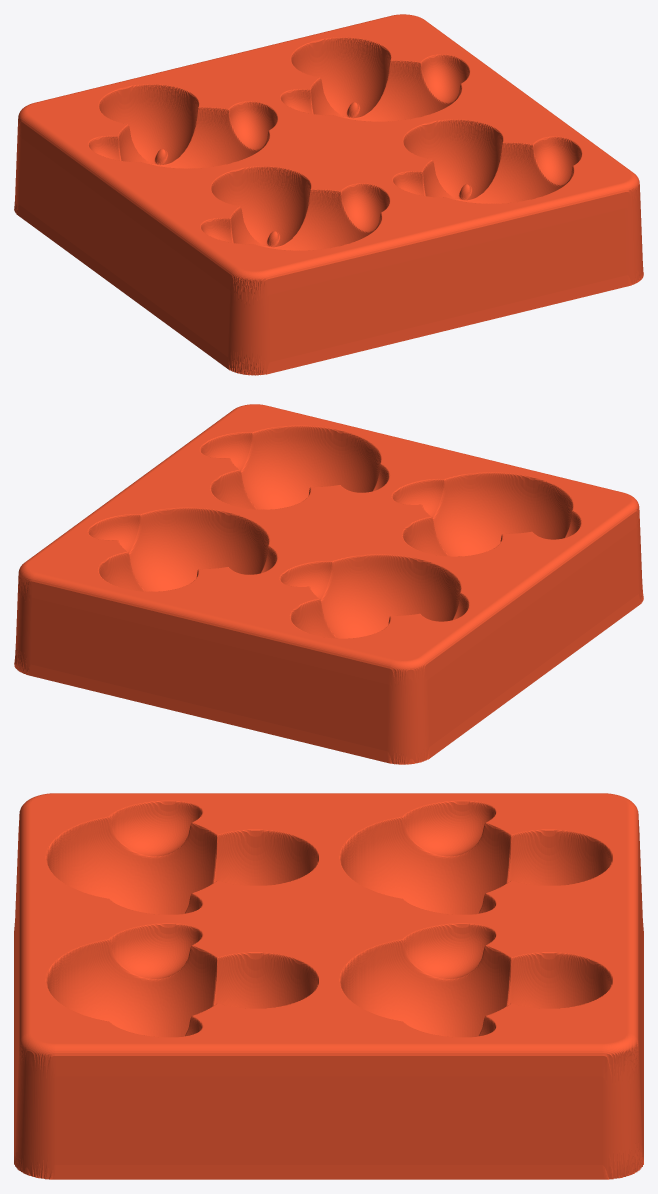
The model's file is mold.glb.
3 renders of one model, top to bottom at view 1: azimuth 30°, elevation 25°; view 2: azimuth 150°, elevation 25°; view 3: azimuth 270°, elevation 25°, orthographic. The views are drawn at different scales.
Visible parts, largest first — view 1: geometry_0; view 2: geometry_0; view 3: geometry_0.
Boxes of the visible parts, x1,y1,x2,y2 form: geometry_0: (14, 14, 643, 375); geometry_0: (14, 404, 643, 764); geometry_0: (14, 793, 643, 1179).
Bounding box in the file's own units: 0.1354 × 0.0309 × 0.1369.
